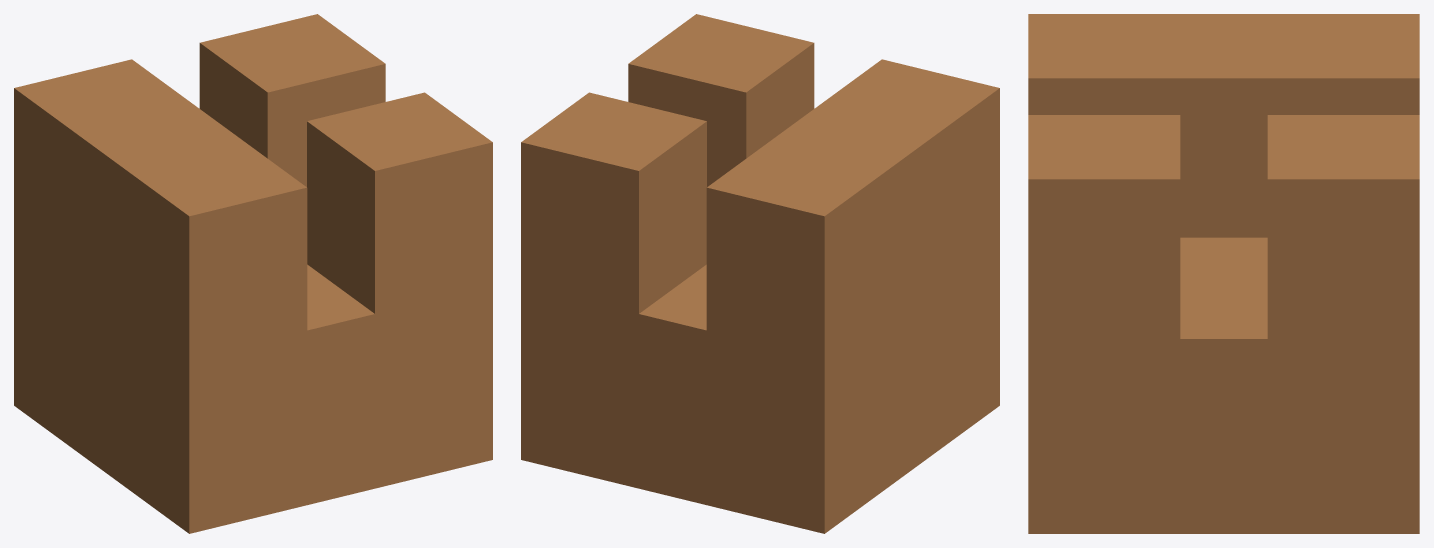
The model's file is Thick_TPiece_Model.fbx.
3 views of the same model, side by side, from view 1: azimuth 30°, elevation 25°; view 2: azimuth 150°, elevation 25°; view 3: azimuth 270°, elevation 25° (orthographic). The views are drawn at different scales.
Parts seen in each view (by area): view 1: Cube.001; view 2: Cube.001; view 3: Cube.001.
Boxes of the visible parts, <box> form: Cube.001: <box>14,14,492,533</box>; Cube.001: <box>521,14,999,533</box>; Cube.001: <box>1028,14,1419,533</box>.
Bounding box in the file's own units: 100 × 100 × 100.
